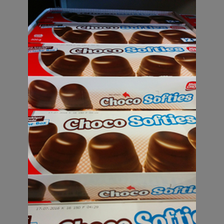chocolate: (26, 111, 196, 197), (28, 47, 196, 109), (28, 23, 196, 46)
